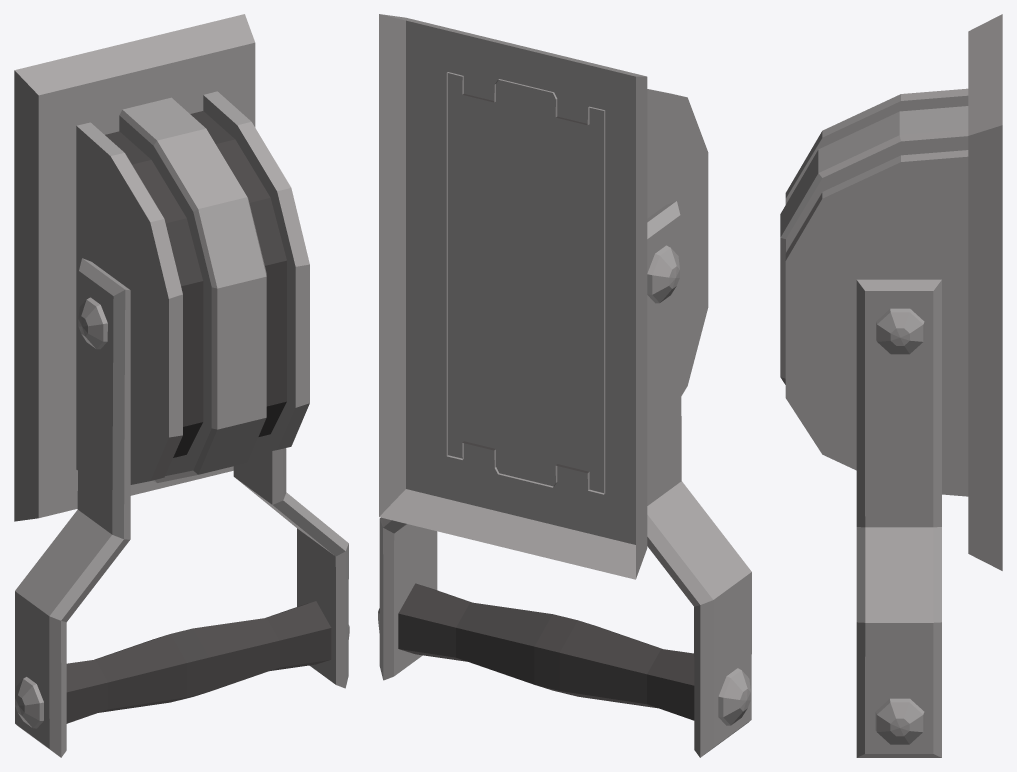
Rendered from WallSwitch_3.fbx.
The picture shows the model from 3 angles, left to right: view 1: azimuth 30°, elevation 25°; view 2: azimuth 150°, elevation 25°; view 3: azimuth 270°, elevation 25°; orthographic projection. The views are drawn at different scales.
Visible parts, largest first — view 1: WallSwitch_3_Casing, WallSwitch_3_Handle; view 2: WallSwitch_3_Casing, WallSwitch_3_Handle; view 3: WallSwitch_3_Casing, WallSwitch_3_Handle.
Boxes of the visible parts, box(x1,y1,x2,y2) form: WallSwitch_3_Casing: box(14, 14, 309, 521); WallSwitch_3_Handle: box(15, 258, 349, 757); WallSwitch_3_Casing: box(379, 14, 708, 579); WallSwitch_3_Handle: box(378, 201, 751, 757); WallSwitch_3_Casing: box(780, 14, 1002, 570); WallSwitch_3_Handle: box(856, 279, 941, 757).
Size of the model in its own units: 33.43 by 61.26 by 19.9.
